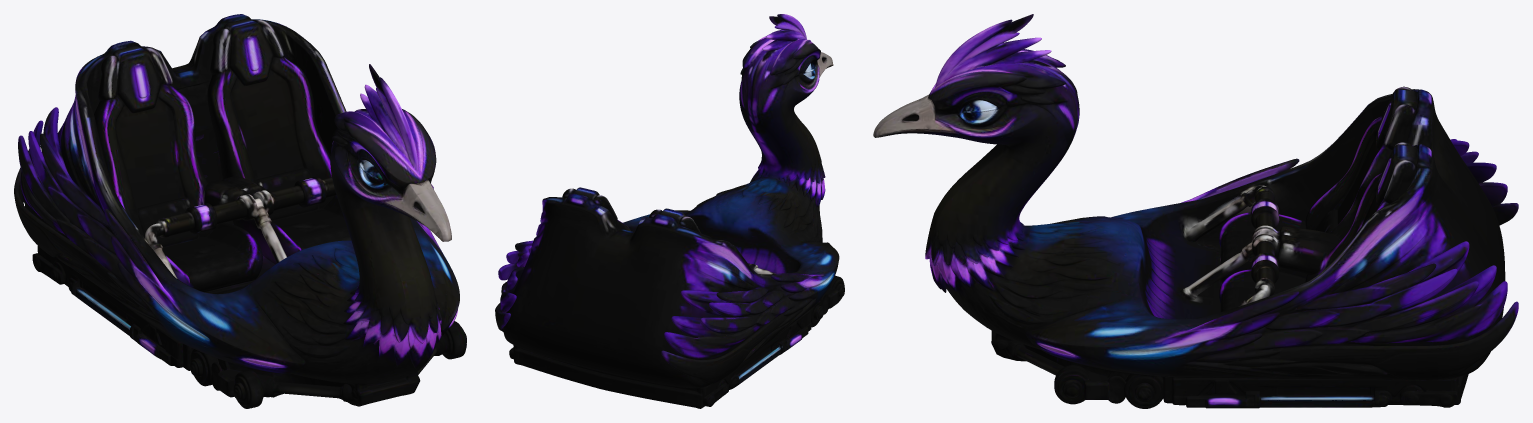
The model's file is nostrich_roller_front.glb.
The picture shows the model from 3 angles, left to right: view 1: azimuth 30°, elevation 25°; view 2: azimuth 150°, elevation 25°; view 3: azimuth 270°, elevation 25°; orthographic projection. The views are drawn at different scales.
Visible parts, largest first — view 1: material; view 2: material; view 3: material.
Part boxes in pixels (box(x1,y1,x2,y2)): material: box(14, 14, 466, 408); material: box(495, 14, 844, 408); material: box(873, 14, 1518, 408).
Bounding box in the file's own units: 0.5939 × 0.6323 × 1.09.
1 material, 1 textured.
